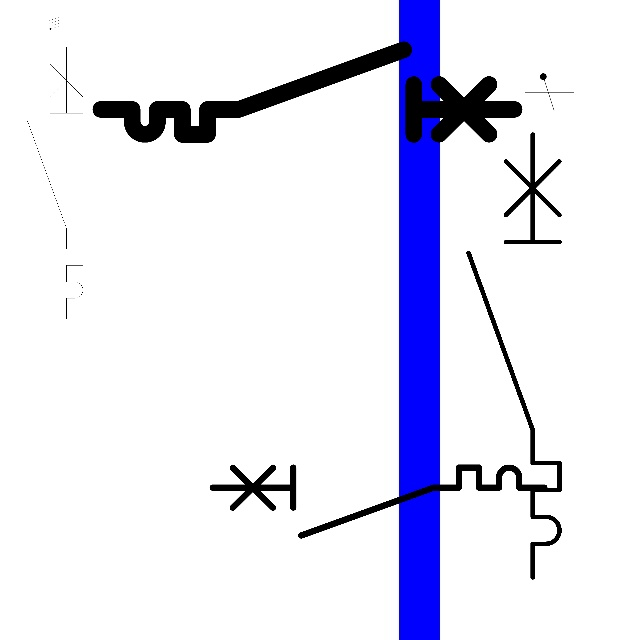interruptor_termomagnetico: (457, 123, 571, 589), (90, 39, 525, 145), (204, 459, 553, 544), (20, 40, 90, 326)
